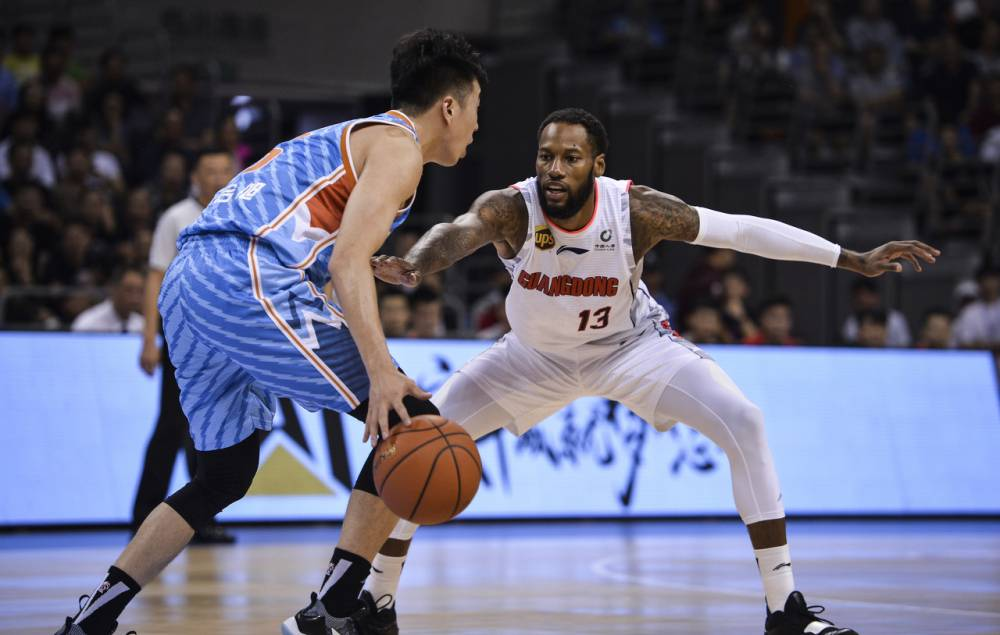ball: (370, 414, 485, 528)
